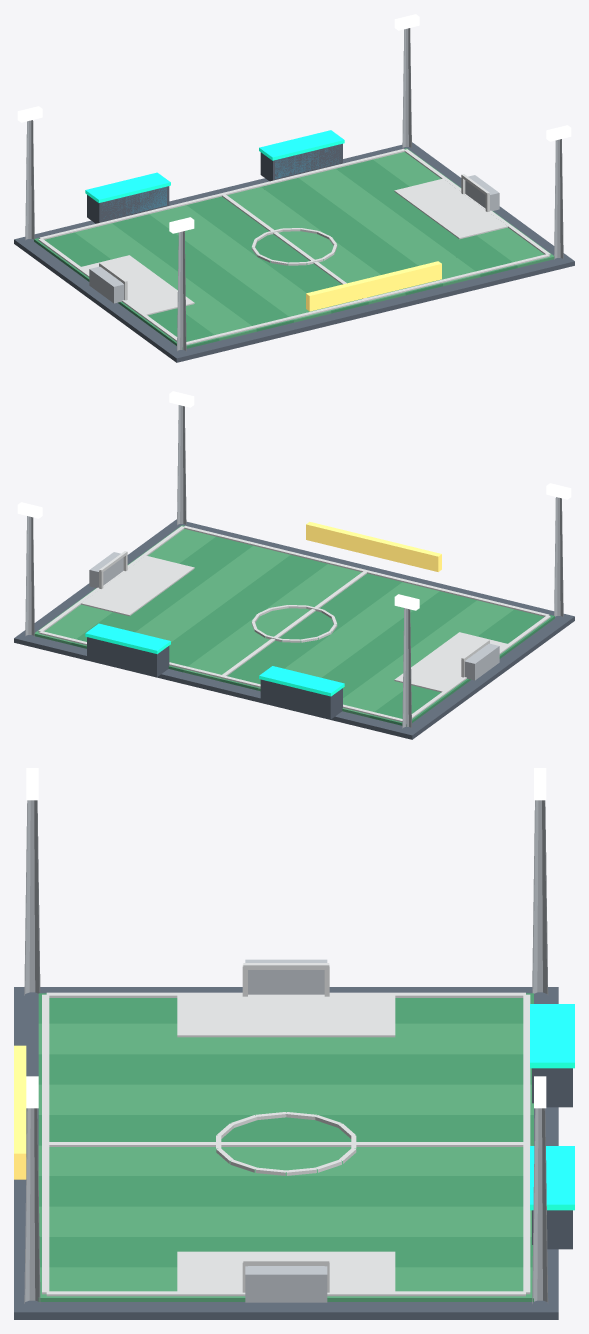
The model's file is training_pitch.glb.
3 renders of one model, top to bottom at view 1: azimuth 30°, elevation 25°; view 2: azimuth 150°, elevation 25°; view 3: azimuth 270°, elevation 25°, orthographic. The views are drawn at different scales.
Parts seen in each view (by area): view 1: training_pitch; view 2: training_pitch; view 3: training_pitch.
Part boxes in pixels (x1,y1,x2,y2): training_pitch: (14, 14, 574, 362); training_pitch: (14, 391, 574, 739); training_pitch: (14, 768, 574, 1319).
Bounding box in the file's own units: 3.76 × 1.22 × 2.74.
